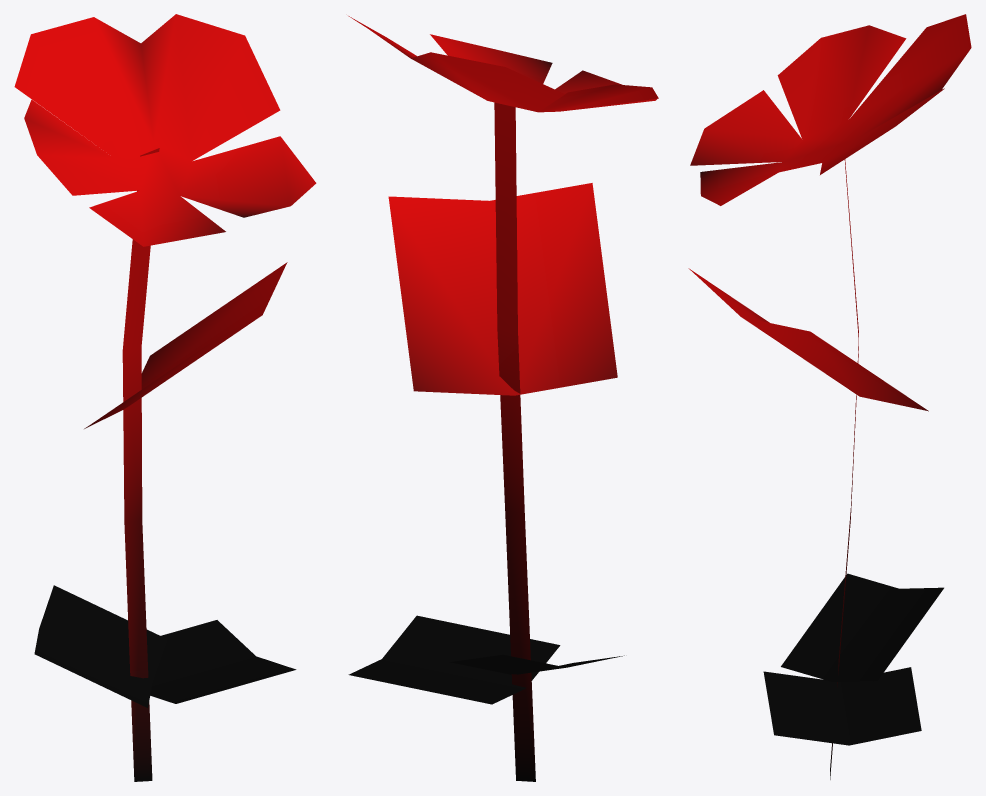
Rendered from SM_Flower_01_a.FBX.
3 views of the same model, side by side, from view 1: azimuth 30°, elevation 25°; view 2: azimuth 150°, elevation 25°; view 3: azimuth 270°, elevation 25° (orthographic). The views are drawn at different scales.
Parts seen in each view (by area): view 1: SM_Flower_01_a_LOD0; view 2: SM_Flower_01_a_LOD0; view 3: SM_Flower_01_a_LOD0.
Part boxes in pixels (<box>): SM_Flower_01_a_LOD0: <box>14,14,316,781</box>; SM_Flower_01_a_LOD0: <box>348,16,658,781</box>; SM_Flower_01_a_LOD0: <box>688,14,971,779</box>.
Bounding box in the file's own units: 22.87 × 22.08 × 63.41.
